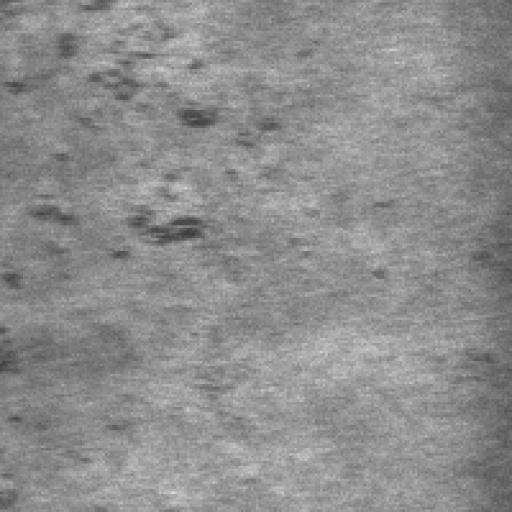rolled_in_scale: (0, 0, 290, 162), (1, 149, 224, 301)
